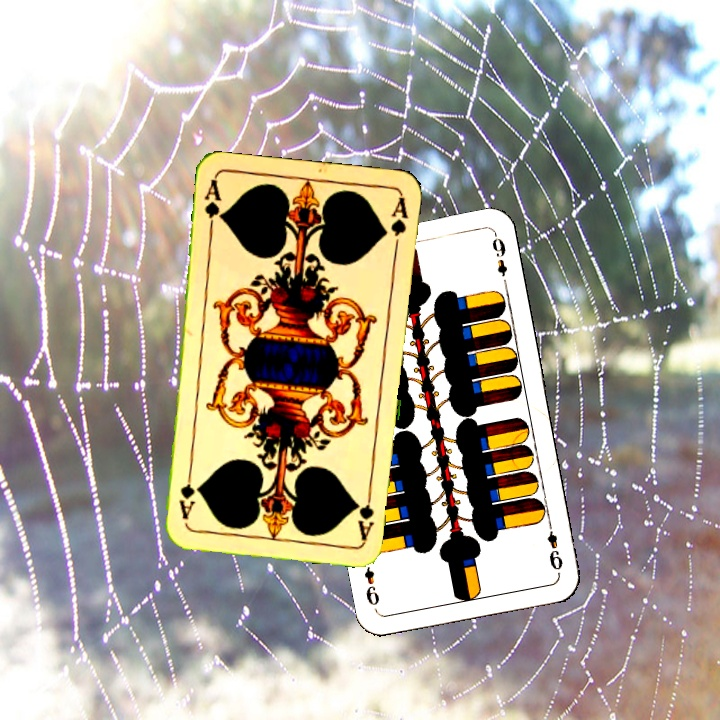E9: (543, 517, 565, 573)
GA: (200, 176, 226, 235), (354, 483, 377, 542)
